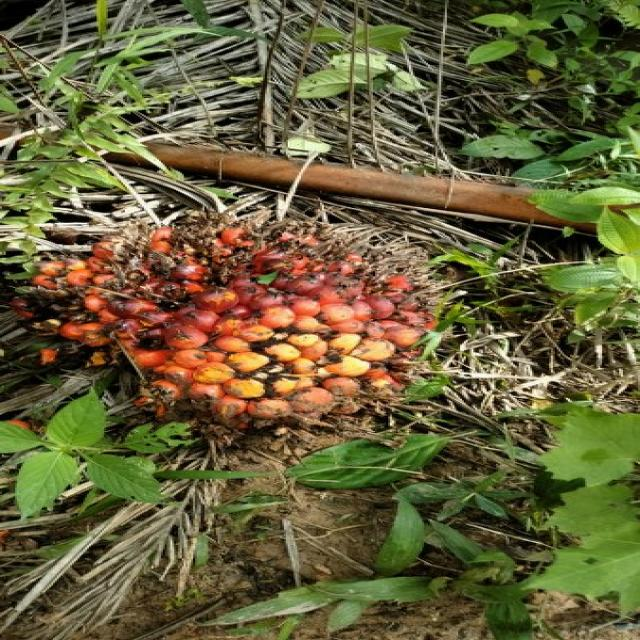fraksi 4: (0, 172, 471, 460)
